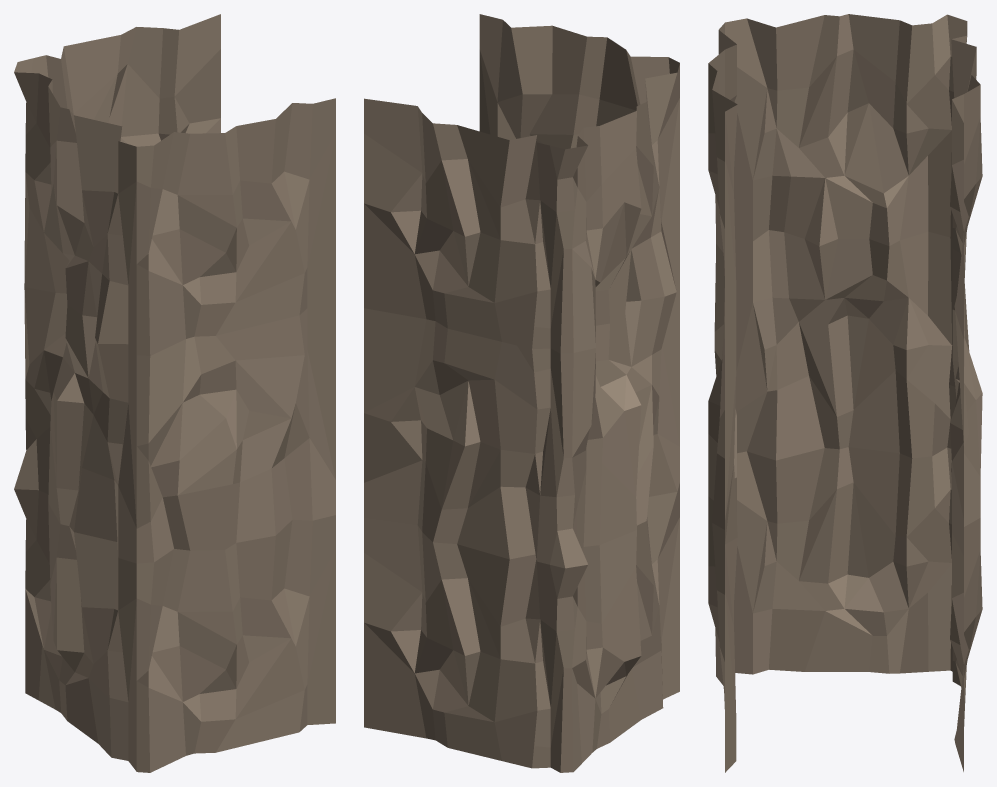
File: ER_Terrain_3x1_Dirt_3Sided_001_B.fbx
The picture shows the model from 3 angles, left to right: view 1: azimuth 30°, elevation 25°; view 2: azimuth 150°, elevation 25°; view 3: azimuth 270°, elevation 25°; orthographic projection. The views are drawn at different scales.
Visible parts, largest first — view 1: ER_Terrain_3x1_Dirt_3Sided_001_B; view 2: ER_Terrain_3x1_Dirt_3Sided_001_B; view 3: ER_Terrain_3x1_Dirt_3Sided_001_B.
Part boxes in pixels (x1,y1,x2,y2): ER_Terrain_3x1_Dirt_3Sided_001_B: (14,14,335,772); ER_Terrain_3x1_Dirt_3Sided_001_B: (364,14,679,772); ER_Terrain_3x1_Dirt_3Sided_001_B: (708,14,982,772).
Size of the model in its own units: 1.1 by 3 by 1.15.
